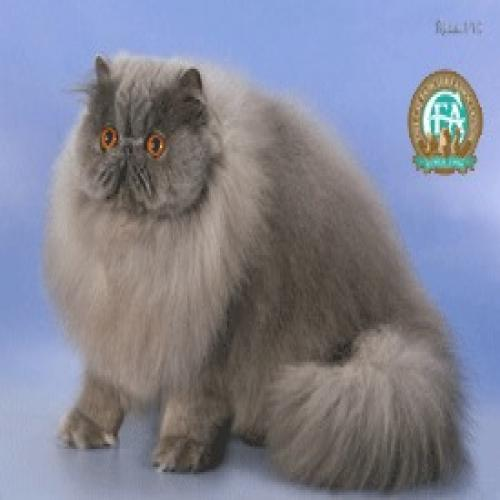persian: (73, 47, 221, 229)
